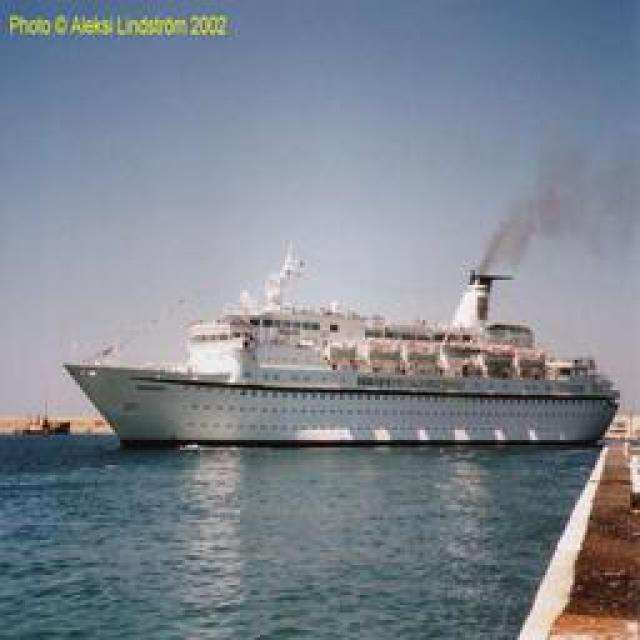Ship: (66, 215, 624, 440)
